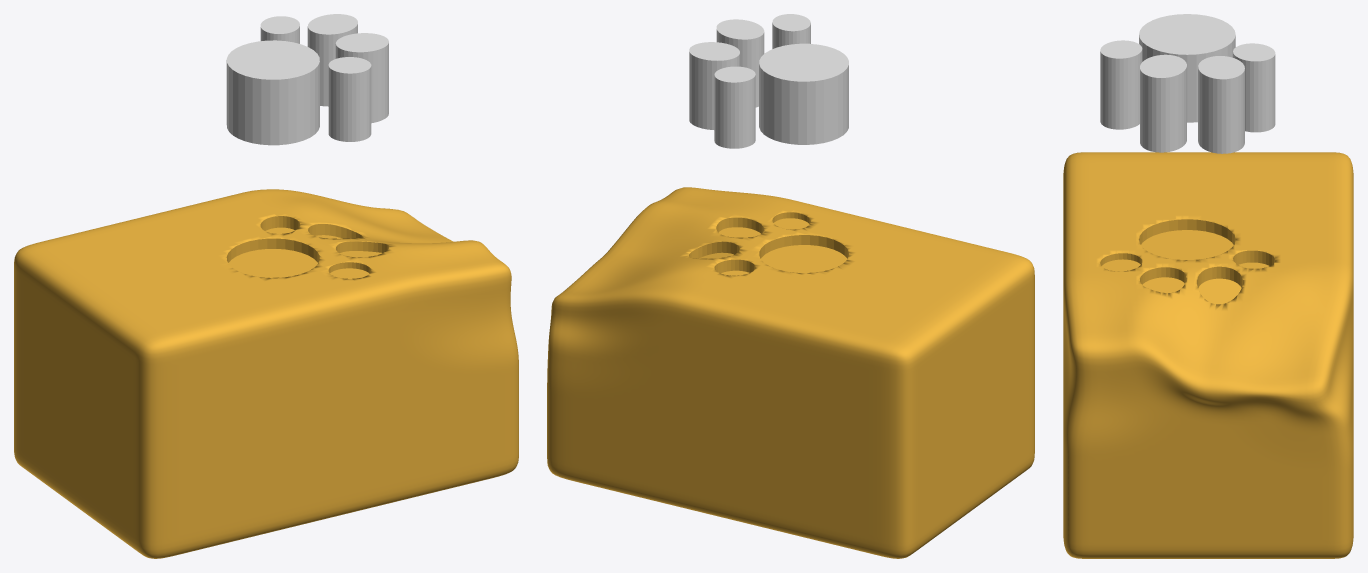
The model's file is butter.fbx.
3 views of the same model, side by side, from view 1: azimuth 30°, elevation 25°; view 2: azimuth 150°, elevation 25°; view 3: azimuth 270°, elevation 25° (orthographic). The views are drawn at different scales.
Parts seen in each view (by area): view 1: Cube, Cylinder.004; view 2: Cube, Cylinder.004; view 3: Cube, Cylinder.004.
Part boxes in pixels (x1,y1,x2,y2): Cube: (14, 189, 518, 558); Cylinder.004: (226, 14, 388, 145); Cube: (547, 187, 1034, 558); Cylinder.004: (689, 14, 848, 148); Cube: (1063, 152, 1353, 558); Cylinder.004: (1100, 14, 1275, 153).
Size of the model in its own units: 367 by 386 by 231.
